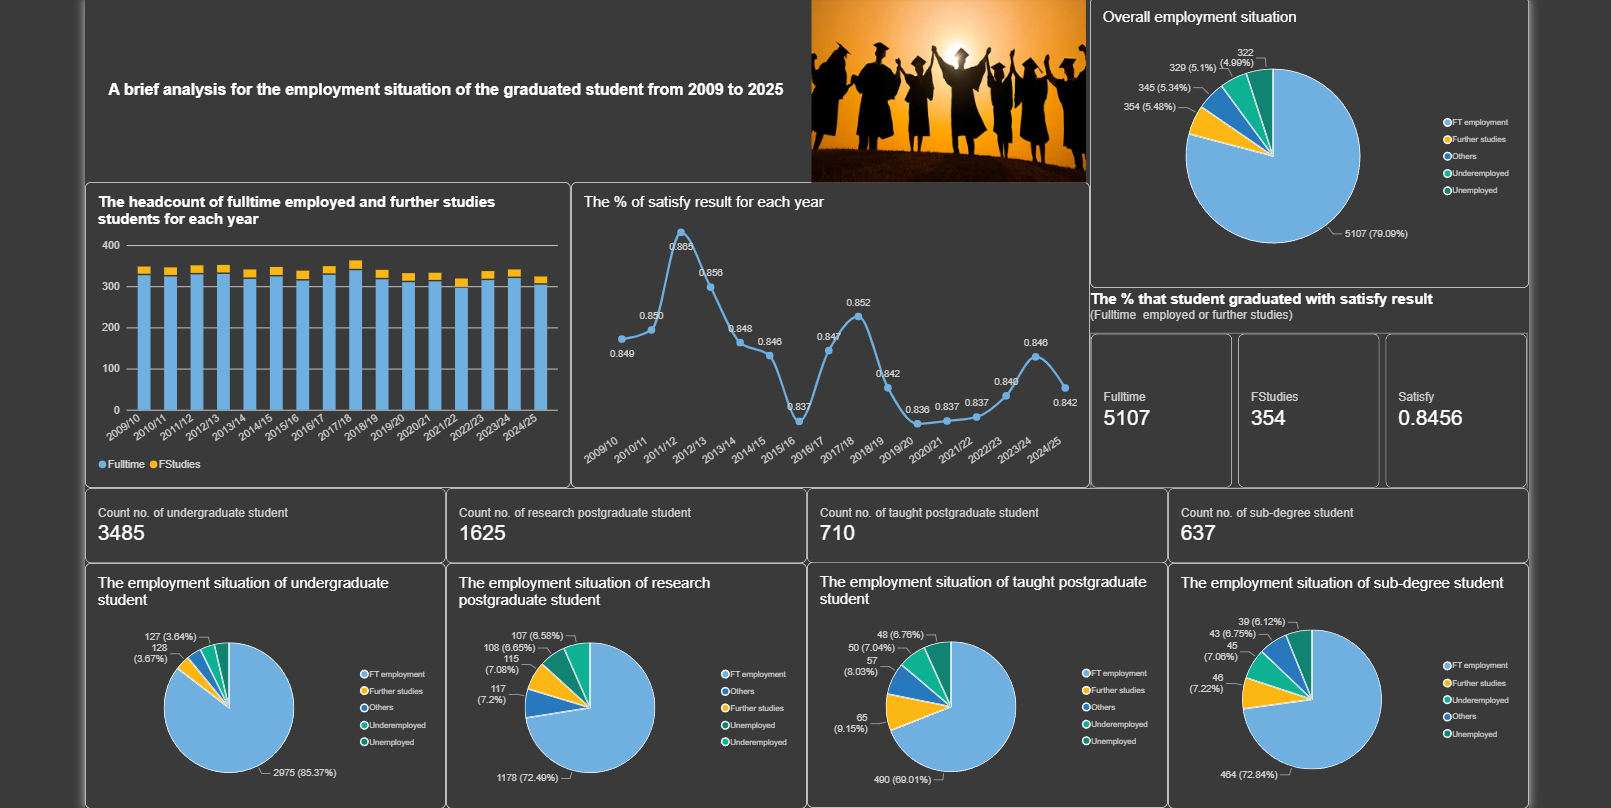

What the dashboard file says about the page in this screenshot:
{"tool":"powerbi","page":{"name":"第 1 頁","canvas":[1920,1080],"ordinal":0},"visuals":[{"type":"pieChart","title":"The employment situation of  undergraduate student","fields":{"Category":["Graduate_Employment_Situation.Employment_Situation_EN"],"Series":["Graduate_Employment_Situation.Level_of_study_TC"],"Y":["CountNonNull(Graduate_Employment_Situation.Level_of_study_TC)"]},"box":[0,752.8,480,326.8],"z":0},{"type":"pieChart","title":"The employment situation of  sub-degree student","fields":{"Category":["Graduate_Employment_Situation.Employment_Situation_EN"],"Series":["Graduate_Employment_Situation_Chi_Eng_geotagging_converted (2).Level_of_study_TC"],"Y":["CountNonNull(Graduate_Employment_Situation_Chi_Eng_geotagging_converted (2).Level_of_study_TC)"]},"box":[1440,752.8,480,327],"z":1000},{"type":"pieChart","title":"The employment situation of  research postgraduate student","fields":{"Category":["Graduate_Employment_Situation.Employment_Situation_EN"],"Series":["Graduate_Employment_Situation_Chi_Eng_geotagging_converted (2).Level_of_study_TC"],"Y":["CountNonNull(Graduate_Employment_Situation_Chi_Eng_geotagging_converted (2).Level_of_study_TC)"]},"box":[480,752.8,480,327],"z":2000},{"type":"pieChart","title":"The employment situation of taught postgraduate student","fields":{"Category":["Graduate_Employment_Situation.Employment_Situation_EN"],"Y":["CountNonNull(Graduate_Employment_Situation_Chi_Eng_geotagging_converted (2).Level_of_study_TC)"]},"box":[960,751.4,480,327],"z":3000},{"type":"cardVisual","fields":{"Data":["CountNonNull(Graduate_Employment_Situation_Chi_Eng_geotagging_converted (2).Level_of_study_TC)"]},"box":[0,653.6,480,100],"z":4000},{"type":"cardVisual","fields":{"Data":["CountNonNull(Graduate_Employment_Situation_Chi_Eng_geotagging_converted (2).Level_of_study_TC)"]},"box":[480,653.6,480,100],"z":5000},{"type":"cardVisual","fields":{"Data":["CountNonNull(Graduate_Employment_Situation_Chi_Eng_geotagging_converted (2).Level_of_study_TC)"]},"box":[960,653.6,480,100],"z":6000},{"type":"cardVisual","fields":{"Data":["CountNonNull(Graduate_Employment_Situation_Chi_Eng_geotagging_converted (2).Level_of_study_TC)"]},"box":[1440,653.6,480,100],"z":7000},{"type":"pieChart","title":"Overall employment situation","fields":{"Category":["Graduate_Employment_Situation.Employment_Situation_EN"],"Y":["CountNonNull(Graduate_Employment_Situation_Chi_Eng_geotagging_converted (2).Level_of_study_TC)"]},"box":[1336.7,0,583.9,387],"z":8000},{"type":"cardVisual","title":"The % that student graduated with satisfy result","fields":{"Data":["Graduate_Employment_Situation.Fulltime","Graduate_Employment_Situation.FStudies","Graduate_Employment_Situation.Satisfy"]},"box":[1336.4,389.5,583.6,264.1],"z":8001},{"type":"columnChart","title":"The headcount of fulltime employed and further studies students for each year","fields":{"Category":["Graduate_Employment_Situation.Academic_Year"],"Y":["Graduate_Employment_Situation.Fulltime","Graduate_Employment_Situation.FStudies"]},"box":[0,246.6,646.3,407.1],"z":8002},{"type":"lineChart","title":"The % of  satisfy result for each year","fields":{"Category":["Graduate_Employment_Situation.Academic_Year"],"Y":["Graduate_Employment_Situation.Satisfy"]},"box":[646.3,246.6,690.1,407.1],"z":8003},{"type":"textbox","title":"A brief analysis for the employment situation of the graduated student from 2009 to 2025","box":[0,0,960,246.6],"z":8004},{"type":"image","box":[960,0,376.4,246.6],"z":8005}]}

Visuals, with their boxes on the page's 1920x1080 design canvas (x1, y1, x2, y2). These are canvas units, not pixel positions in the 1611x808 screenshot, which may show the page scaled, cropped or inside an application window:
"The employment situation of  undergraduate student" pieChart: [0,753,480,1080]
"The employment situation of  sub-degree student" pieChart: [1440,753,1920,1080]
"The employment situation of  research postgraduate student" pieChart: [480,753,960,1080]
"The employment situation of taught postgraduate student" pieChart: [960,751,1440,1078]
cardVisual - CountNonNull(Graduate_Employment_Situation_Chi_Eng_geotagging_converted (2).Level_of_study_TC): [0,654,480,754]
cardVisual - CountNonNull(Graduate_Employment_Situation_Chi_Eng_geotagging_converted (2).Level_of_study_TC): [480,654,960,754]
cardVisual - CountNonNull(Graduate_Employment_Situation_Chi_Eng_geotagging_converted (2).Level_of_study_TC): [960,654,1440,754]
cardVisual - CountNonNull(Graduate_Employment_Situation_Chi_Eng_geotagging_converted (2).Level_of_study_TC): [1440,654,1920,754]
"Overall employment situation" pieChart: [1337,0,1921,387]
"The % that student graduated with satisfy result" cardVisual: [1336,390,1920,654]
"The headcount of fulltime employed and further studies students for each year" columnChart: [0,247,646,654]
"The % of  satisfy result for each year" lineChart: [646,247,1336,654]
"A brief analysis for the employment situation of the graduated student from 2009 to 2025" textbox: [0,0,960,247]
image: [960,0,1336,247]
